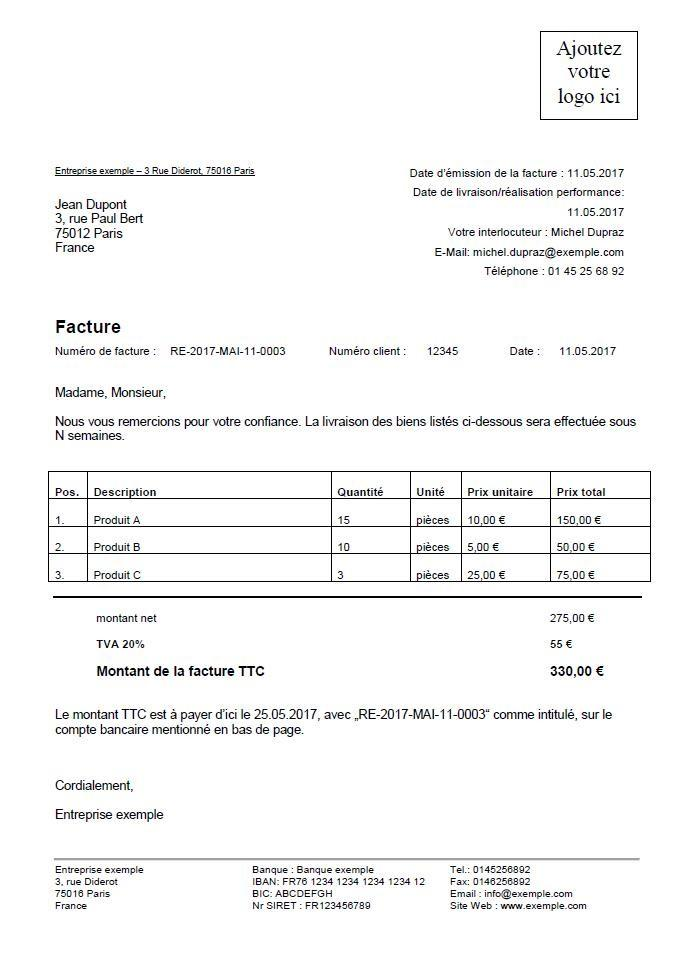ROI: (51, 482, 608, 581), (89, 612, 609, 683), (402, 161, 634, 218), (247, 860, 428, 916), (53, 858, 154, 922), (50, 196, 150, 258)
